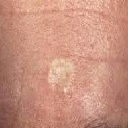Carcinoma: (41, 55, 81, 100)
